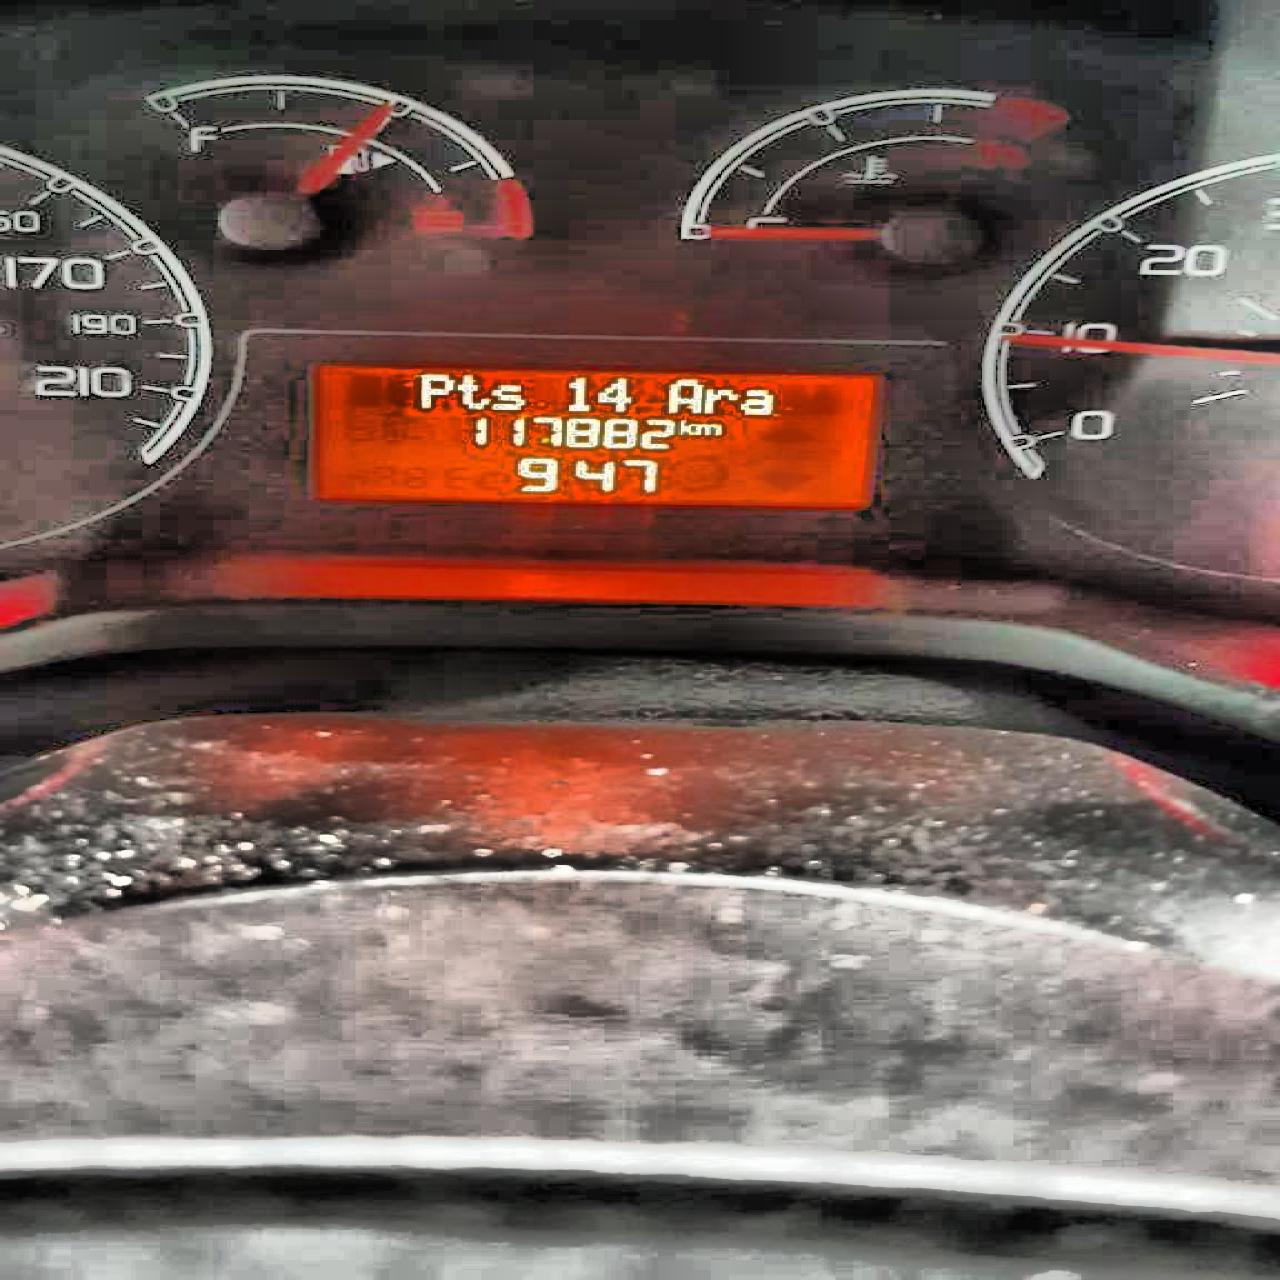1: (560, 373, 593, 411), (464, 414, 491, 450), (502, 415, 526, 448)
2: (638, 415, 673, 450)
4: (598, 373, 640, 411), (568, 456, 611, 495)
7: (620, 456, 660, 493), (529, 414, 563, 448)
8: (561, 414, 600, 449), (600, 415, 635, 449)
9: (513, 454, 558, 493)
X: (451, 372, 489, 410), (416, 372, 451, 410), (738, 384, 778, 416), (667, 376, 700, 414), (489, 381, 527, 410), (702, 384, 736, 415), (692, 421, 722, 435), (675, 416, 692, 435)
odometer: (300, 354, 900, 518)
